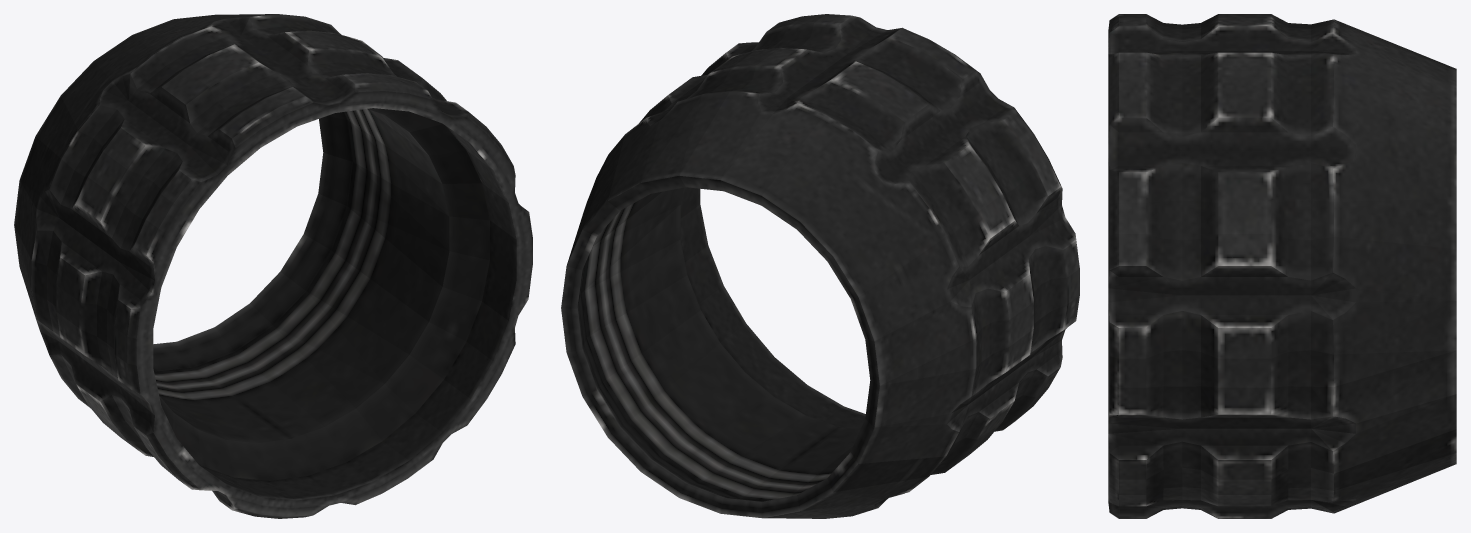
The picture shows the model from 3 angles, left to right: view 1: azimuth 30°, elevation 25°; view 2: azimuth 150°, elevation 25°; view 3: azimuth 270°, elevation 25°; orthographic projection. The views are drawn at different scales.
Parts seen in each view (by area): view 1: TW_673f3f2f40aeca974e0b5c66_PZ_Import; view 2: TW_673f3f2f40aeca974e0b5c66_PZ_Import; view 3: TW_673f3f2f40aeca974e0b5c66_PZ_Import.
Boxes of the visible parts, x1,y1,x2,y2 form: TW_673f3f2f40aeca974e0b5c66_PZ_Import: [14, 14, 532, 518]; TW_673f3f2f40aeca974e0b5c66_PZ_Import: [561, 14, 1079, 518]; TW_673f3f2f40aeca974e0b5c66_PZ_Import: [1108, 14, 1456, 518].
Size of the model in its own units: 0.0181 by 0.0125 by 0.0179.
Materials: 1 (1 with a texture image).
